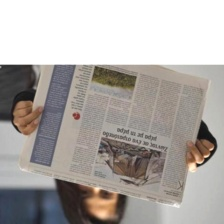news_paper: (14, 63, 213, 208)
